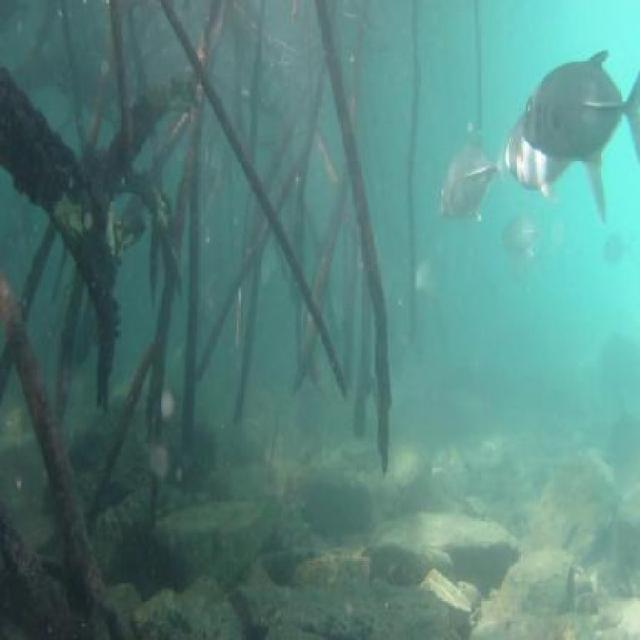Caranx_sexfasciatus_juvenile: (504, 89, 624, 222), (520, 45, 640, 177), (440, 109, 503, 234), (501, 236, 562, 289), (512, 202, 566, 250)
